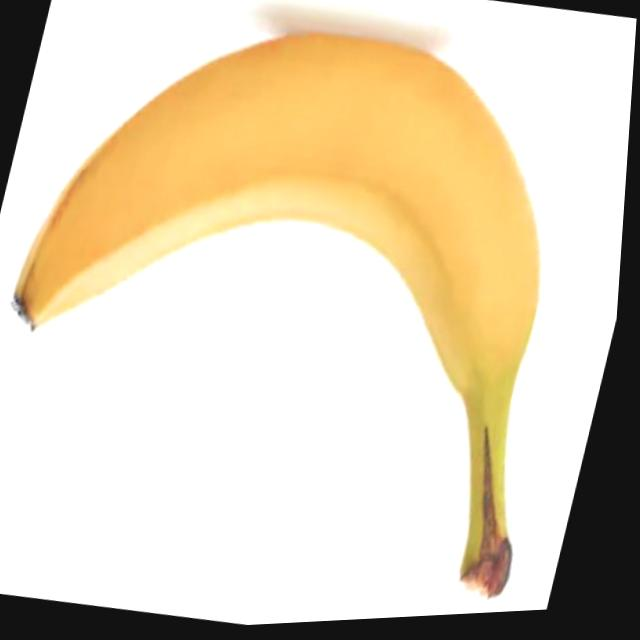Banana: (0, 0, 639, 632)
